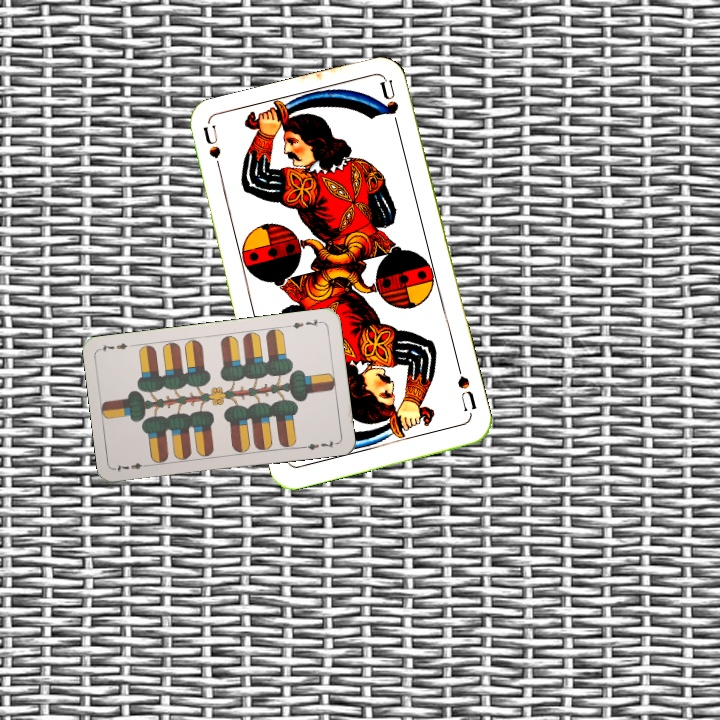E7: (284, 315, 324, 331), (112, 459, 152, 474)
SU: (200, 123, 226, 182), (453, 360, 479, 414)
